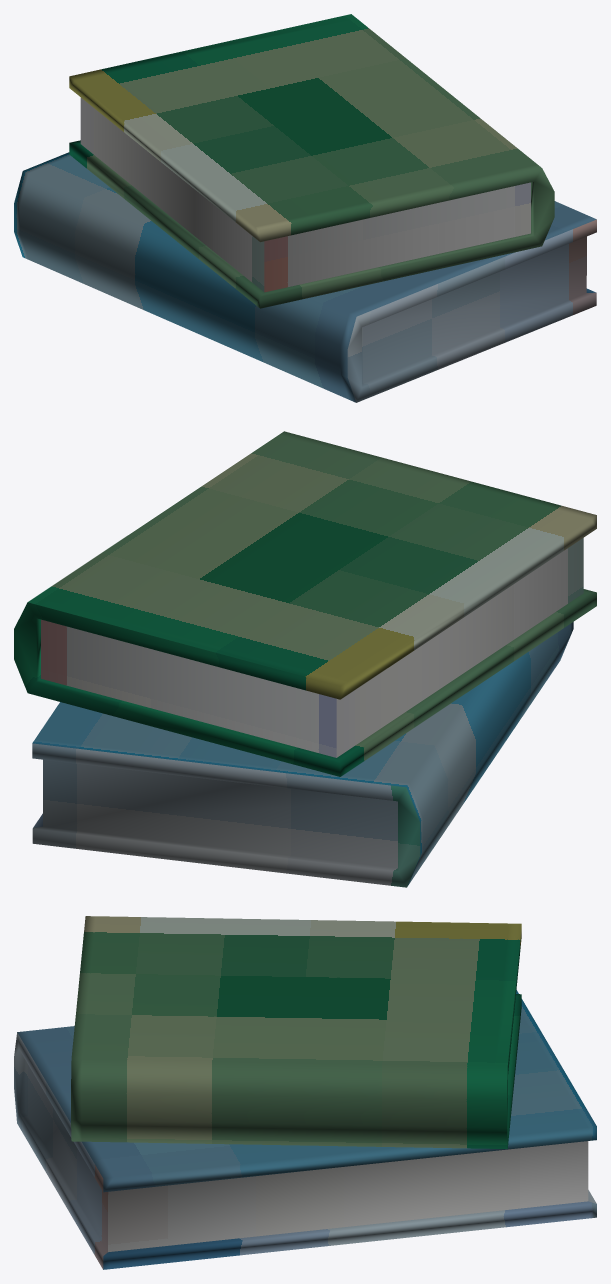
File: a_sch_entrance01_obj_book05.gltf
3 views of the same model, one above another, from view 1: azimuth 30°, elevation 25°; view 2: azimuth 150°, elevation 25°; view 3: azimuth 270°, elevation 25° (orthographic). The views are drawn at different scales.
Parts seen in each view (by area): view 1: a_sch_entrance01_obj_book05_mesh_shape:a_sch_office01_shelfb; view 2: a_sch_entrance01_obj_book05_mesh_shape:a_sch_office01_shelfb; view 3: a_sch_entrance01_obj_book05_mesh_shape:a_sch_office01_shelfb.
Part boxes in pixels (box(x1,y1,x2,y2)): a_sch_entrance01_obj_book05_mesh_shape:a_sch_office01_shelfb: box(14, 14, 596, 402); a_sch_entrance01_obj_book05_mesh_shape:a_sch_office01_shelfb: box(14, 431, 596, 887); a_sch_entrance01_obj_book05_mesh_shape:a_sch_office01_shelfb: box(14, 916, 596, 1269).
Bounding box in the file's own units: 0.3001 × 0.1209 × 0.3642.
Materials: 1 (1 with a texture image).
